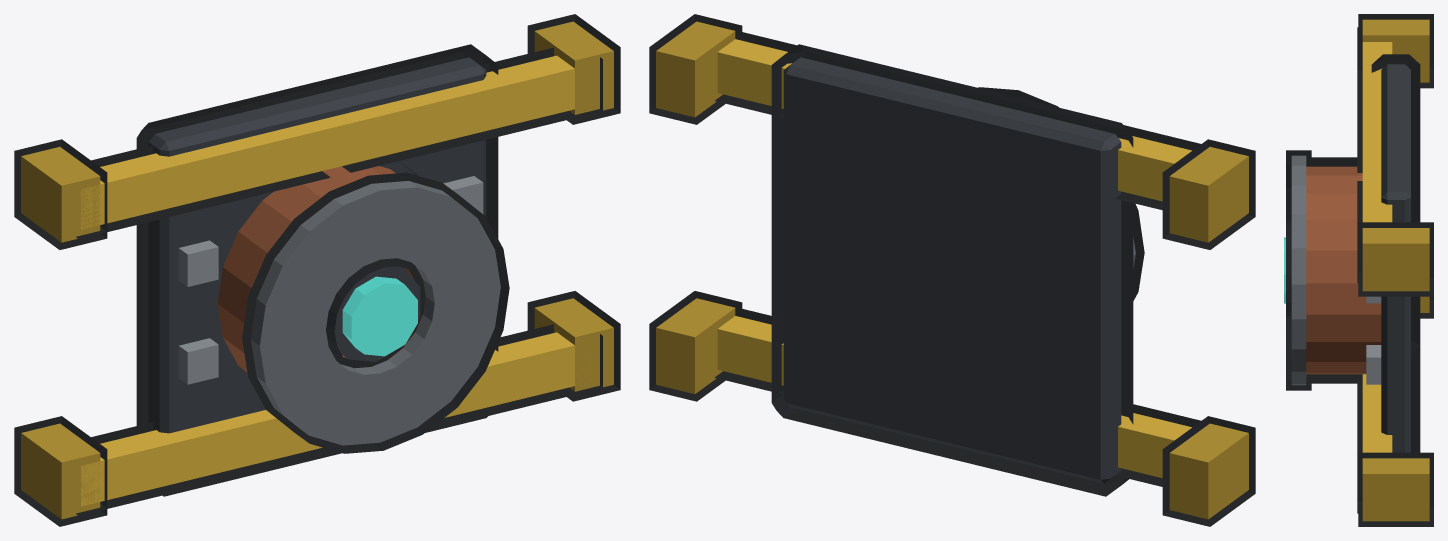
The model's file is SM_Tool_VentLock.glb.
3 views of the same model, side by side, from view 1: azimuth 30°, elevation 25°; view 2: azimuth 150°, elevation 25°; view 3: azimuth 270°, elevation 25° (orthographic). The views are drawn at different scales.
Visible parts, largest first — view 1: SM_Tool_VentLock, SM_Tool_VentLock_Outline, SM_Tool_VentLock_Status; view 2: SM_Tool_VentLock, SM_Tool_VentLock_Outline; view 3: SM_Tool_VentLock, SM_Tool_VentLock_Outline.
Part boxes in pixels (x1,y1,x2,y2): SM_Tool_VentLock: [21, 21, 613, 519]; SM_Tool_VentLock_Outline: [14, 14, 620, 526]; SM_Tool_VentLock_Status: [342, 276, 417, 356]; SM_Tool_VentLock: [656, 21, 1248, 519]; SM_Tool_VentLock_Outline: [649, 14, 1255, 526]; SM_Tool_VentLock: [1291, 19, 1429, 521]; SM_Tool_VentLock_Outline: [1286, 14, 1433, 526].
Bounding box in the file's own units: 0.7212 × 0.4452 × 0.2006.
3 materials, 1 textured.
